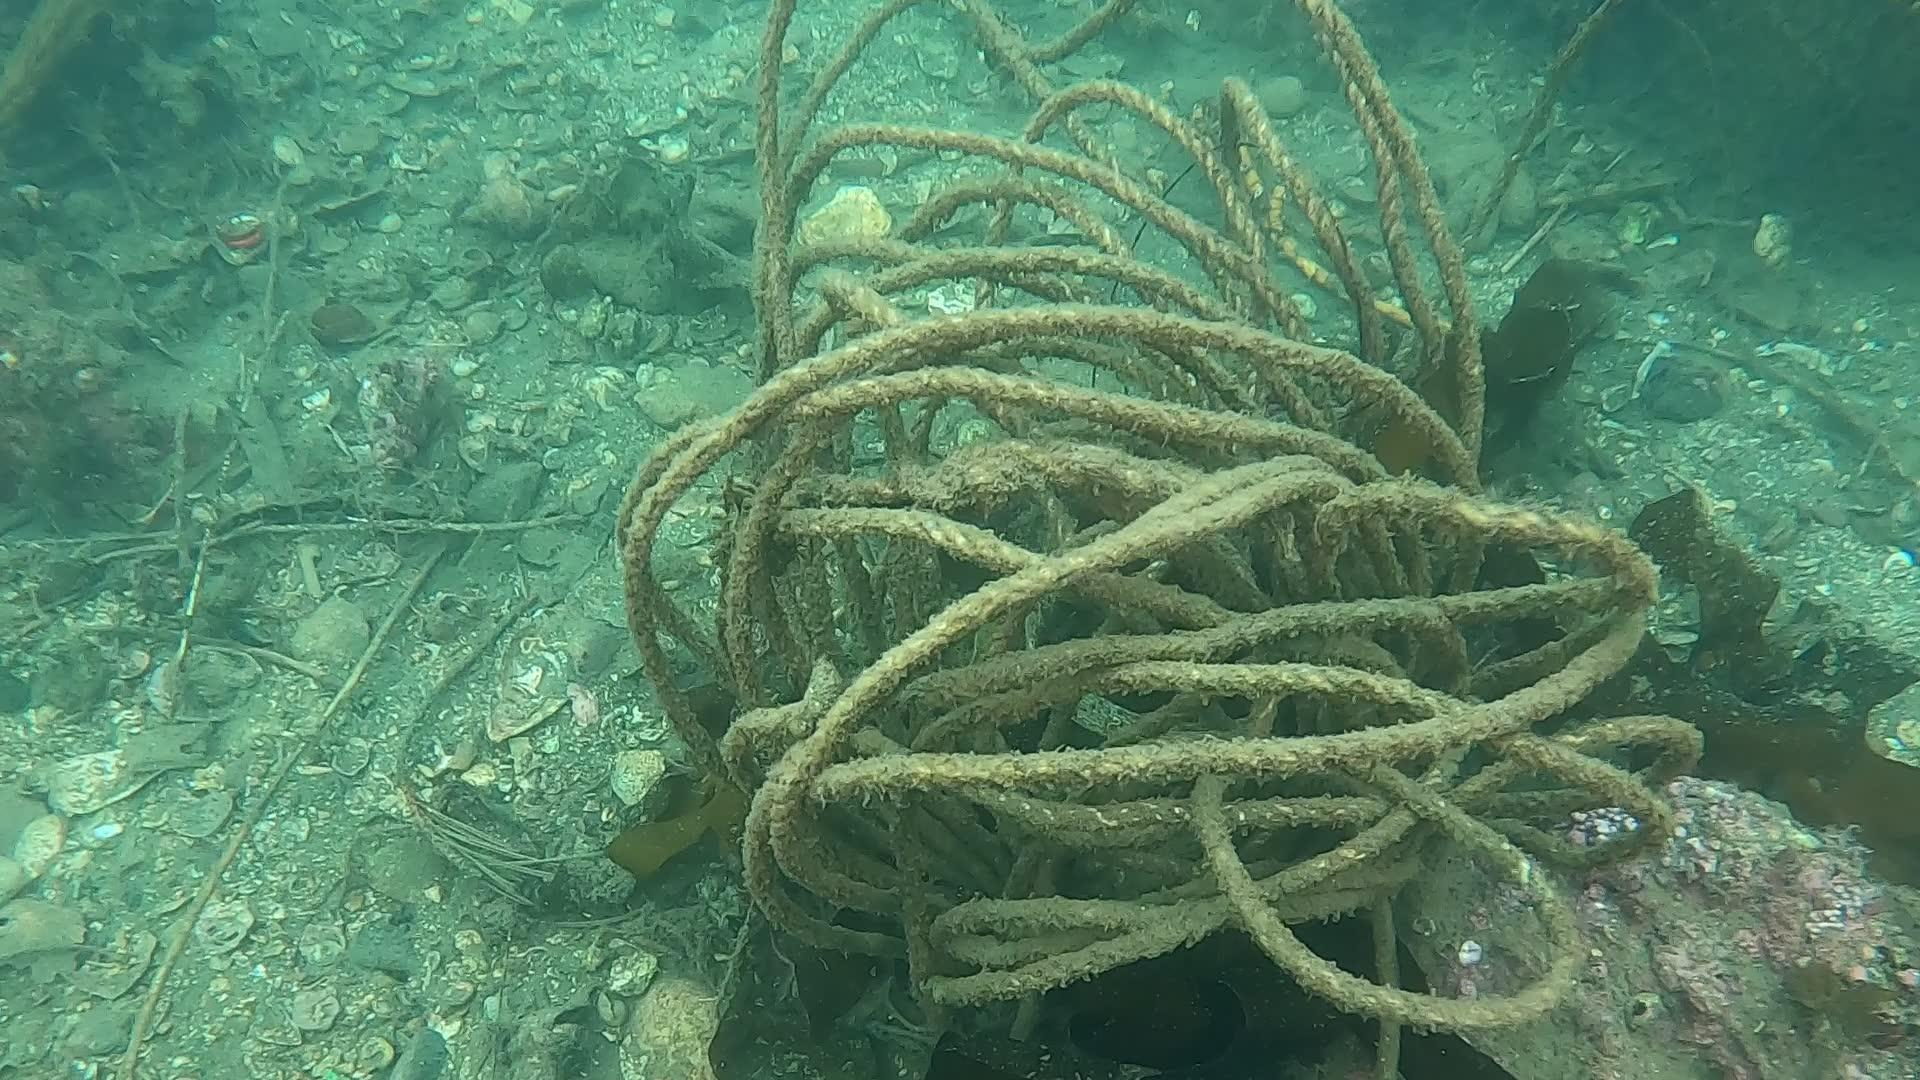bundle of ropes: (617, 0, 1710, 1031)
